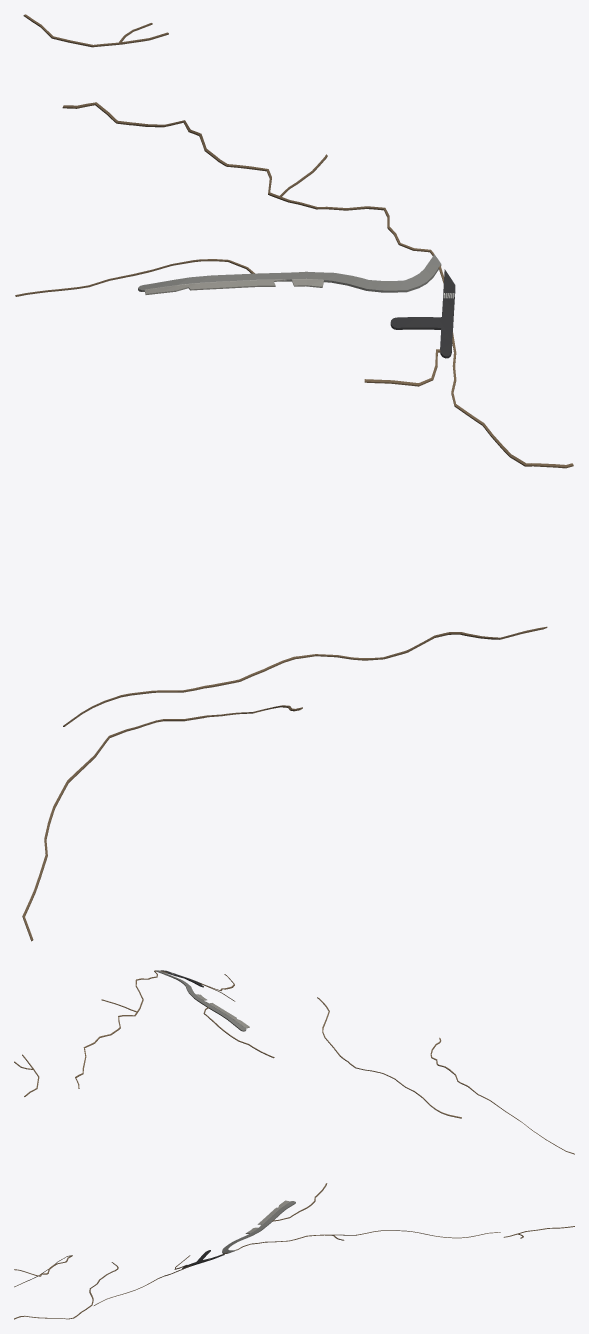
The picture shows the model from 3 angles, top to bottom: view 1: azimuth 30°, elevation 25°; view 2: azimuth 150°, elevation 25°; view 3: azimuth 270°, elevation 25°; orthographic projection. The views are drawn at different scales.
Size of the model in its own units: 378 by 234 by 583.
